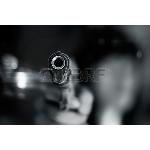Pistol: (46, 49, 76, 110)
